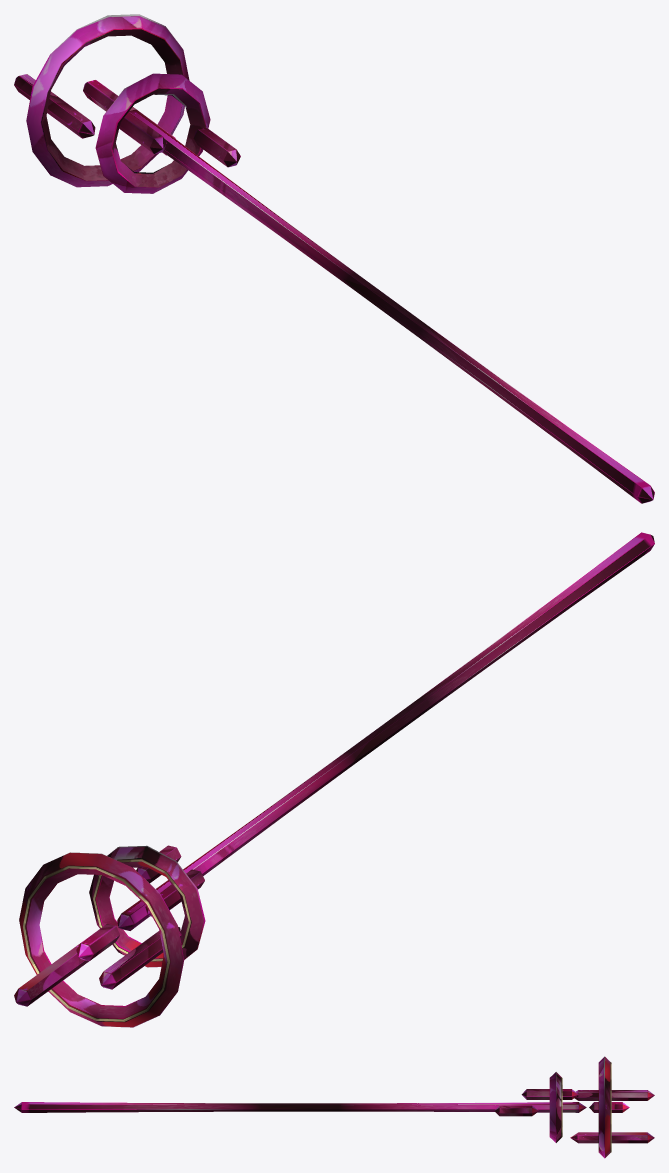
File: lilith.glb
3 renders of one model, top to bottom at view 1: azimuth 30°, elevation 25°; view 2: azimuth 150°, elevation 25°; view 3: azimuth 270°, elevation 25°, orthographic. The views are drawn at different scales.
Parts seen in each view (by area): view 1: CH_Lilith_WP_Base; view 2: CH_Lilith_WP_Base; view 3: CH_Lilith_WP_Base.
Boxes of the visible parts, <box> form: CH_Lilith_WP_Base: <box>14,14,654,503</box>; CH_Lilith_WP_Base: <box>14,532,654,1027</box>; CH_Lilith_WP_Base: <box>14,1056,654,1158</box>.
Size of the model in its own units: 0.3009 by 0.3009 by 1.89.
1 material, 1 textured.
